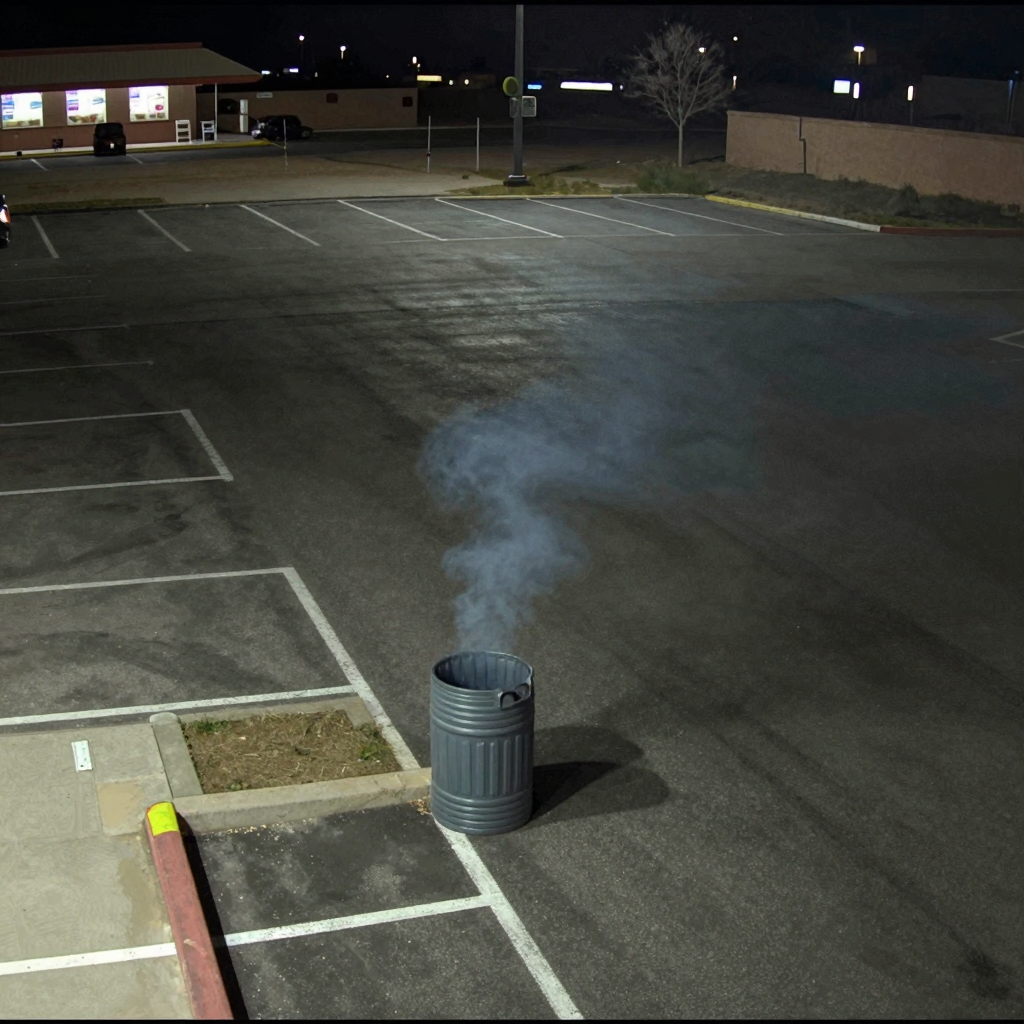Explosion: (394, 286, 748, 691)
